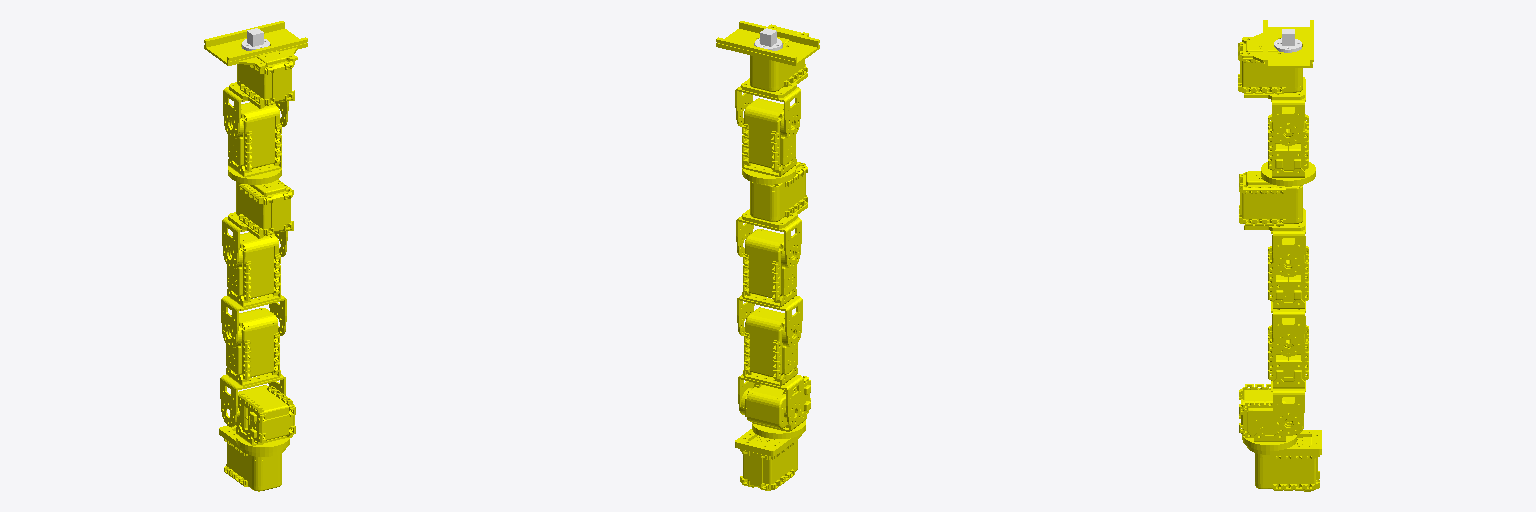
URDF robot description (pincherarmrobot):
<robot
  name="pincherarmrobot">
  <link name="world">
    </link>
  <link
    name="base_link">
    <inertial>
      <origin
        xyz="2.4845E-06 0.013235 0.020936"
        rpy="0 0 0" />
      <mass
        value="4.5754E-05" />
      <inertia
        ixx="1.459E-09"
        ixy="6.8805E-15"
        ixz="2.1093E-13"
        iyy="1.4574E-09"
        iyz="-4.7542E-11"
        izz="1.5509E-12" />
    </inertial>
    <visual>
      <origin
        xyz="0 0 0"
        rpy="0 0 0" />
      <geometry>
        <mesh
          filename="package://UAV-ARM-moveit/model/pincherarmrobot/meshes/base_link.STL" />
      </geometry>
      <material
        name="">
        <color
          rgba="1 1 0 1" />
      </material>
    </visual>
    <collision>
      <origin
        xyz="0 0 0"
        rpy="0 0 0" />
      <geometry>
        <mesh
          filename="package://UAV-ARM-moveit/model/pincherarmrobot/meshes/base_link.STL" />
      </geometry>
    </collision>
  </link>
  <joint name="virtual_joint" type="fixed">
     <parent link="world"/>
     <child link="base_link"/>
   </joint>
  <link
    name="Link_1">
    <inertial>
      <origin
        xyz="0.0011009 0.00044343 -0.020439"
        rpy="0 0 0" />
      <mass
        value="4.9121E-05" />
      <inertia
        ixx="3.0214E-09"
        ixy="-4.9941E-12"
        ixz="1.9272E-10"
        iyy="3.0318E-09"
        iyz="7.7604E-11"
        izz="1.4413E-11" />
    </inertial>
    <visual>
      <origin
        xyz="0 0 0"
        rpy="0 0 0" />
      <geometry>
        <mesh
          filename="package://UAV-ARM-moveit/model/pincherarmrobot/meshes/Link_1.STL" />
      </geometry>
      <material
        name="">
        <color
          rgba="1 1 0 1" />
      </material>
    </visual>
    <collision>
      <origin
        xyz="0 0 0"
        rpy="0 0 0" />
      <geometry>
        <mesh
          filename="package://UAV-ARM-moveit/model/pincherarmrobot/meshes/Link_1.STL" />
      </geometry>
    </collision>
  </link>
  <joint
    name="Joint_1"
    type="revolute">
    <origin
      xyz="0 0 0.03933"
      rpy="3.1416 6.123E-17 1.5708" />
    <parent
      link="base_link" />
    <child
      link="Link_1" />
    <axis
      xyz="0 0 -1" />
    <limit
      lower="-3.14"
      upper="3.14"
      effort="100"
      velocity="1" />
  </joint>
  <link
    name="Link_2">
    <inertial>
      <origin
        xyz="2.5991E-06 0.04947 -0.019144"
        rpy="0 0 0" />
      <mass
        value="4.7221E-05" />
      <inertia
        ixx="9.3859E-09"
        ixy="-9.2297E-13"
        ixz="2.3555E-13"
        iyy="4.3991E-10"
        iyz="1.2329E-09"
        izz="8.946E-09" />
    </inertial>
    <visual>
      <origin
        xyz="0 0 0"
        rpy="0 0 0" />
      <geometry>
        <mesh
          filename="package://UAV-ARM-moveit/model/pincherarmrobot/meshes/Link_2.STL" />
      </geometry>
      <material
        name="">
        <color
          rgba="1 1 0 1" />
      </material>
    </visual>
    <collision>
      <origin
        xyz="0 0 0"
        rpy="0 0 0" />
      <geometry>
        <mesh
          filename="package://UAV-ARM-moveit/model/pincherarmrobot/meshes/Link_2.STL" />
      </geometry>
    </collision>
  </link>
  <joint
    name="Joint_2"
    type="revolute">
    <origin
      xyz="0.0145 0.0184 -0.024"
      rpy="-1.5708 0 -6.123E-17" />
    <parent
      link="Link_1" />
    <child
      link="Link_2" />
    <axis
      xyz="0 0 1" />
    <limit
      lower="-3.14"
      upper="3.14"
      effort="100"
      velocity="1" />
  </joint>
  <link
    name="Link_3">
    <inertial>
      <origin
        xyz="0.04947 2.7835E-06 -0.018221"
        rpy="0 0 0" />
      <mass
        value="4.7221E-05" />
      <inertia
        ixx="3.9825E-10"
        ixy="-4.9304E-13"
        ixz="9.9939E-10"
        iyy="9.3451E-09"
        iyz="5.7166E-14"
        izz="8.9468E-09" />
    </inertial>
    <visual>
      <origin
        xyz="0 0 0"
        rpy="0 0 0" />
      <geometry>
        <mesh
          filename="package://UAV-ARM-moveit/model/pincherarmrobot/meshes/Link_3.STL" />
      </geometry>
      <material
        name="">
        <color
          rgba="1 1 0 1" />
      </material>
    </visual>
    <collision>
      <origin
        xyz="0 0 0"
        rpy="0 0 0" />
      <geometry>
        <mesh
          filename="package://UAV-ARM-moveit/model/pincherarmrobot/meshes/Link_3.STL" />
      </geometry>
    </collision>
  </link>
  <joint
    name="Joint_3"
    type="revolute">
    <origin
      xyz="0 0.068 -0.03756"
      rpy="-3.1416 4.9613E-14 1.5708" />
    <parent
      link="Link_2" />
    <child
      link="Link_3" />
    <axis
      xyz="0 0 -1" />
    <limit
      lower="-3.14"
      upper="3.14"
      effort="100"
      velocity="1" />
  </joint>
  <link
    name="Link_4">
    <inertial>
      <origin
        xyz="0.041435 -0.011521 -0.018695"
        rpy="0 0 0" />
      <mass
        value="4.8813E-05" />
      <inertia
        ixx="1.3477E-09"
        ixy="2.284E-09"
        ixz="9.3436E-10"
        iyy="6.2818E-09"
        iyz="-2.5967E-10"
        izz="6.7941E-09" />
    </inertial>
    <visual>
      <origin
        xyz="0 0 0"
        rpy="0 0 0" />
      <geometry>
        <mesh
          filename="package://UAV-ARM-moveit/model/pincherarmrobot/meshes/Link_4.STL" />
      </geometry>
      <material
        name="">
        <color
          rgba="1 1 0 1" />
      </material>
    </visual>
    <collision>
      <origin
        xyz="0 0 0"
        rpy="0 0 0" />
      <geometry>
        <mesh
          filename="package://UAV-ARM-moveit/model/pincherarmrobot/meshes/Link_4.STL" />
      </geometry>
    </collision>
  </link>
  <joint
    name="Joint_4"
    type="revolute">
    <origin
      xyz="0.068 0 -0.00076"
      rpy="8.4308E-14 6.9389E-16 -4.1243E-27" />
    <parent
      link="Link_3" />
    <child
      link="Link_4" />
    <axis
      xyz="0 0 -1" />
    <limit
      lower="-3.14"
      upper="3.14"
      effort="100"
      velocity="1" />
  </joint>
  <link
    name="Link_5">
    <inertial>
      <origin
        xyz="2.052E-06 0.00043295 0.029285"
        rpy="0 0 0" />
      <mass
        value="5.0309E-05" />
      <inertia
        ixx="7.3909E-09"
        ixy="-1.5736E-14"
        ixz="-9.4168E-13"
        iyy="7.3886E-09"
        iyz="-1.2815E-10"
        izz="2.2395E-12" />
    </inertial>
    <visual>
      <origin
        xyz="0 0 0"
        rpy="0 0 0" />
      <geometry>
        <mesh
          filename="package://UAV-ARM-moveit/model/pincherarmrobot/meshes/Link_5.STL" />
      </geometry>
      <material
        name="">
        <color
          rgba="1 1 0 1" />
      </material>
    </visual>
    <collision>
      <origin
        xyz="0 0 0"
        rpy="0 0 0" />
      <geometry>
        <mesh
          filename="package://UAV-ARM-moveit/model/pincherarmrobot/meshes/Link_5.STL" />
      </geometry>
    </collision>
  </link>
  <joint
    name="Joint_5"
    type="revolute">
    <origin
      xyz="0.0639 -0.00024968 -0.019159"
      rpy="1.5708 4.4704E-08 1.5708" />
    <parent
      link="Link_4" />
    <child
      link="Link_5" />
    <axis
      xyz="0 0 1" />
    <limit
      lower="-3.14"
      upper="3.14"
      effort="100"
      velocity="1" />
  </joint>
  <link
    name="Link_6">
    <inertial>
      <origin
        xyz="0.041435 -0.011521 -0.018695"
        rpy="0 0 0" />
      <mass
        value="4.8813E-05" />
      <inertia
        ixx="1.3477E-09"
        ixy="2.284E-09"
        ixz="9.3436E-10"
        iyy="6.2818E-09"
        iyz="-2.5967E-10"
        izz="6.7941E-09" />
    </inertial>
    <visual>
      <origin
        xyz="0 0 0"
        rpy="0 0 0" />
      <geometry>
        <mesh
          filename="package://UAV-ARM-moveit/model/pincherarmrobot/meshes/Link_6.STL" />
      </geometry>
      <material
        name="">
        <color
          rgba="1 1 0 1" />
      </material>
    </visual>
    <collision>
      <origin
        xyz="0 0 0"
        rpy="0 0 0" />
      <geometry>
        <mesh
          filename="package://UAV-ARM-moveit/model/pincherarmrobot/meshes/Link_6.STL" />
      </geometry>
    </collision>
  </link>
  <joint
    name="Joint_6"
    type="revolute">
    <origin
      xyz="0 0.0184 0.04834"
      rpy="-1.5708 -1.5708 0" />
    <parent
      link="Link_5" />
    <child
      link="Link_6" />
    <axis
      xyz="0 0 -1" />
    <limit
      lower="-3.14"
      upper="3.14"
      effort="100"
      velocity="1" />
  </joint>
  <link
    name="Link_7">
    <inertial>
      <origin
        xyz="-0.0018068 -0.00026619 -0.0002393"
        rpy="0 0 0" />
      <mass
        value="7.1779E-06" />
      <inertia
        ixx="0"
        ixy="0"
        ixz="0"
        iyy="0"
        iyz="0"
        izz="0" />
    </inertial>
    <visual>
      <origin
        xyz="0 0 0"
        rpy="0 0 0" />
      <geometry>
        <mesh
          filename="package://UAV-ARM-moveit/model/pincherarmrobot/meshes/Link_7.STL" />
      </geometry>
      <material
        name="">
        <color
          rgba="1 1 0 1" />
      </material>
    </visual>
    <collision>
      <origin
        xyz="0 0 0"
        rpy="0 0 0" />
      <geometry>
        <mesh
          filename="package://UAV-ARM-moveit/model/pincherarmrobot/meshes/Link_7.STL" />
      </geometry>
    </collision>
  </link>
  <joint
    name="Joint_7"
    type="fixed">
    <origin
      xyz="0.0639 -0.00024968 -0.01916"
      rpy="1.5708 3.8975E-09 1.5708" />
    <parent
      link="Link_6" />
    <child
      link="Link_7" />
    <axis
      xyz="0 0 0" />
  </joint>
  <link
    name="Link_8">
    <inertial>
      <origin
        xyz="0.0005393 0.00032837 0.0068317"
        rpy="0 0 0" />
      <mass
        value="0.0010012" />
      <inertia
        ixx="5.8583E-11"
        ixy="-2.1362E-13"
        ixz="-4.559E-12"
        iyy="5.881E-11"
        iyz="-2.739E-12"
        izz="4.8391E-13" />
    </inertial>
    <visual>
      <origin
        xyz="0 0 0"
        rpy="0 0 0" />
      <geometry>
        <mesh
          filename="package://UAV-ARM-moveit/model/pincherarmrobot/meshes/Link_8.STL" />
      </geometry>
      <material
        name="">
        <color
          rgba="1 1 1 1" />
      </material>
    </visual>
    <collision>
      <origin
        xyz="0 0 0"
        rpy="0 0 0" />
      <geometry>
        <mesh
          filename="package://UAV-ARM-moveit/model/pincherarmrobot/meshes/Link_8.STL" />
      </geometry>
    </collision>
  </link>
  <joint
    name="Joint_8"
    type="revolute">
    <origin
      xyz="0 0 0"
      rpy="-6.2967E-09 1.3654E-25 1.3235E-23" />
    <parent
      link="Link_7" />
    <child
      link="Link_8" />
    <axis
      xyz="0 0 1" />
    <limit
      lower="-3.14"
      upper="3.14"
      effort="100"
      velocity="1" />
  </joint>
</robot>

--- Render facts (derived) ---
Views: 3 orthographic renders of the robot side by side, from view 1: azimuth 30°, elevation 25°; view 2: azimuth 150°, elevation 25°; view 3: azimuth 270°, elevation 25°.
Model pincherarmrobot with 10 links and 9 joints (7 revolute, 2 fixed), rooted at world, posed all joints at 0.
Links seen in each view (by area): view 1: Link_3, Link_2, Link_4, Link_5, Link_6, Link_1, Link_7, base_link; view 2: Link_3, Link_2, Link_4, Link_5, Link_6, base_link, Link_1, Link_7; view 3: Link_4, Link_6, Link_2, base_link, Link_3, Link_1, Link_5, Link_7.
Boxes of the visible links, x1,y1,x2,y2 form: Link_3: [221, 232, 286, 347]; Link_2: [220, 308, 285, 426]; Link_4: [222, 179, 293, 268]; Link_5: [228, 102, 281, 184]; Link_6: [223, 47, 294, 138]; Link_1: [230, 385, 295, 452]; Link_7: [204, 21, 307, 68]; base_link: [219, 425, 285, 491]; Link_3: [737, 229, 802, 347]; Link_2: [738, 307, 803, 426]; Link_4: [736, 162, 807, 268]; Link_5: [742, 98, 796, 184]; Link_6: [735, 27, 807, 138]; base_link: [735, 429, 801, 490]; Link_1: [745, 376, 810, 438]; Link_7: [716, 21, 819, 65]; Link_4: [1239, 171, 1305, 276]; Link_6: [1238, 40, 1305, 145]; Link_2: [1268, 314, 1308, 435]; base_link: [1247, 430, 1321, 491]; Link_3: [1268, 235, 1308, 356]; Link_1: [1239, 384, 1303, 450]; Link_5: [1261, 107, 1315, 186]; Link_7: [1242, 20, 1313, 67].
Size in the robot's own frame: 0.0716 by 0.0645 by 0.3879 metres.
9 mesh visuals loaded from 9 distinct referenced files (9 binary STL).